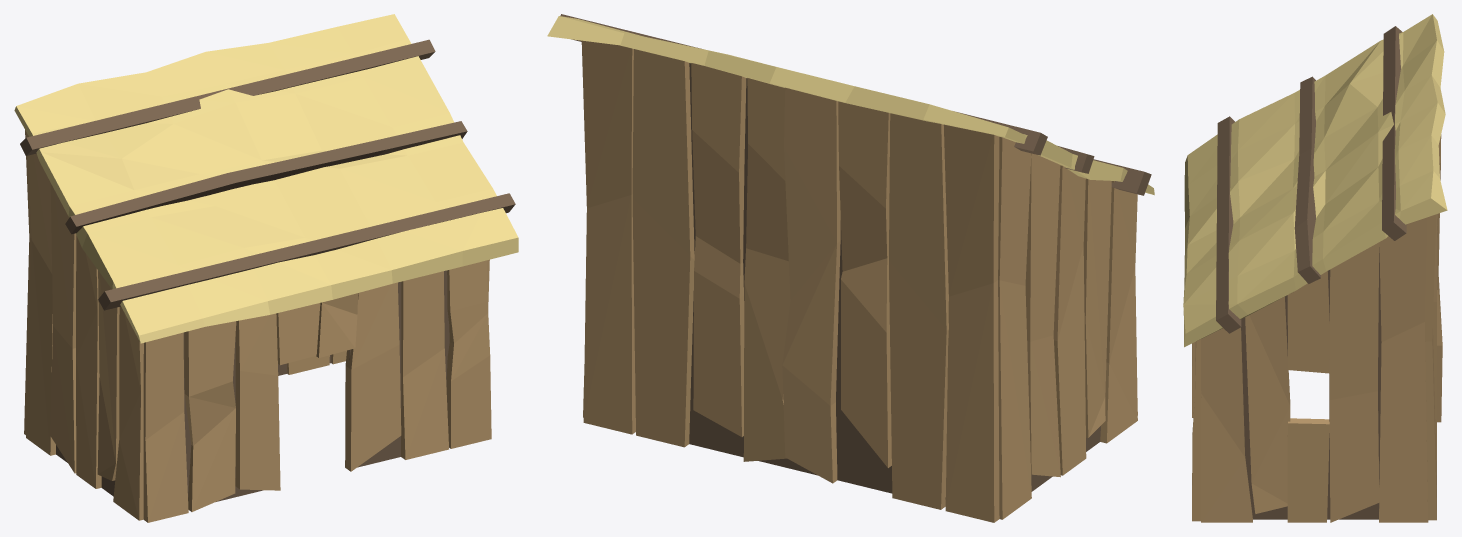
The model's file is Hut_3.fbx.
The picture shows the model from 3 angles, left to right: view 1: azimuth 30°, elevation 25°; view 2: azimuth 150°, elevation 25°; view 3: azimuth 270°, elevation 25°; orthographic projection. The views are drawn at different scales.
Parts seen in each view (by area): view 1: Hut_3; view 2: Hut_3; view 3: Hut_3.
Part boxes in pixels (x1,y1,x2,y2): Hut_3: (14, 14, 518, 522); Hut_3: (547, 14, 1154, 522); Hut_3: (1183, 14, 1447, 522).
Bounding box in the file's own units: 404 × 320 × 226.
Materials: 1 (1 with a texture image).
